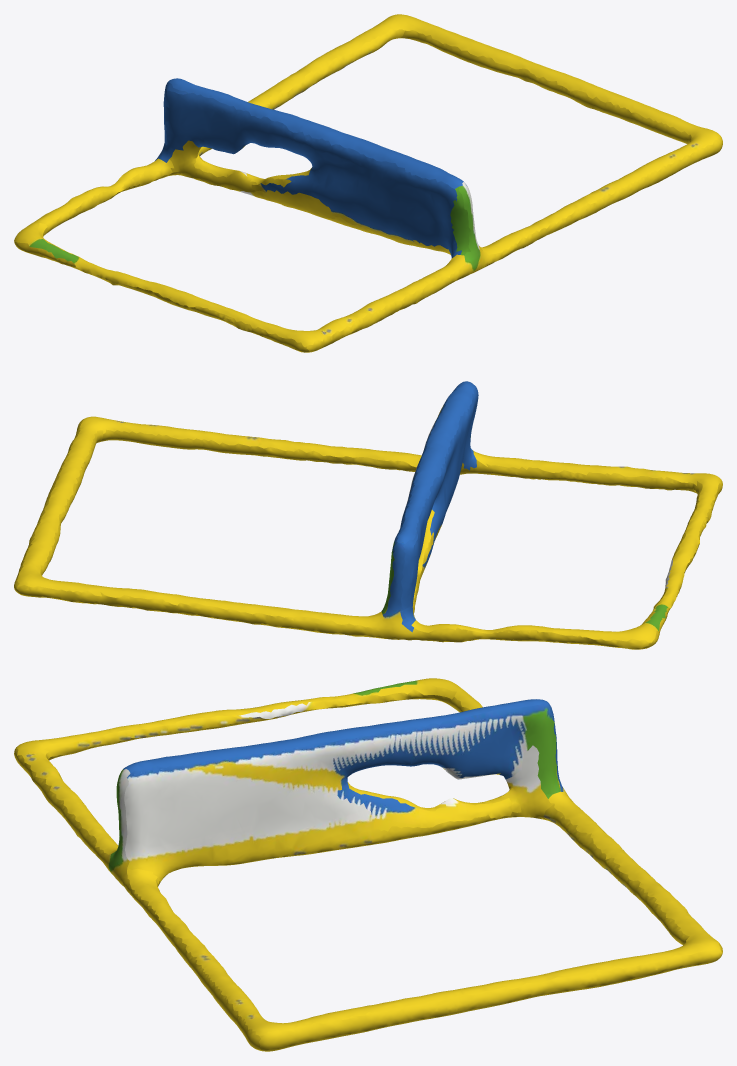
Rendered from volley.glb.
The picture shows the model from 3 angles, top to bottom: view 1: azimuth 30°, elevation 25°; view 2: azimuth 150°, elevation 25°; view 3: azimuth 270°, elevation 25°; orthographic projection. The views are drawn at different scales.
Visible parts, largest first — view 1: geometry_0; view 2: geometry_0; view 3: geometry_0.
Part boxes in pixels (box(x1,y1,x2,y2)): geometry_0: box(14, 14, 722, 352); geometry_0: box(14, 381, 722, 649); geometry_0: box(14, 678, 722, 1051).
Bounding box in the file's own units: 1.09 × 0.154 × 0.89.
1 material, 1 textured.
